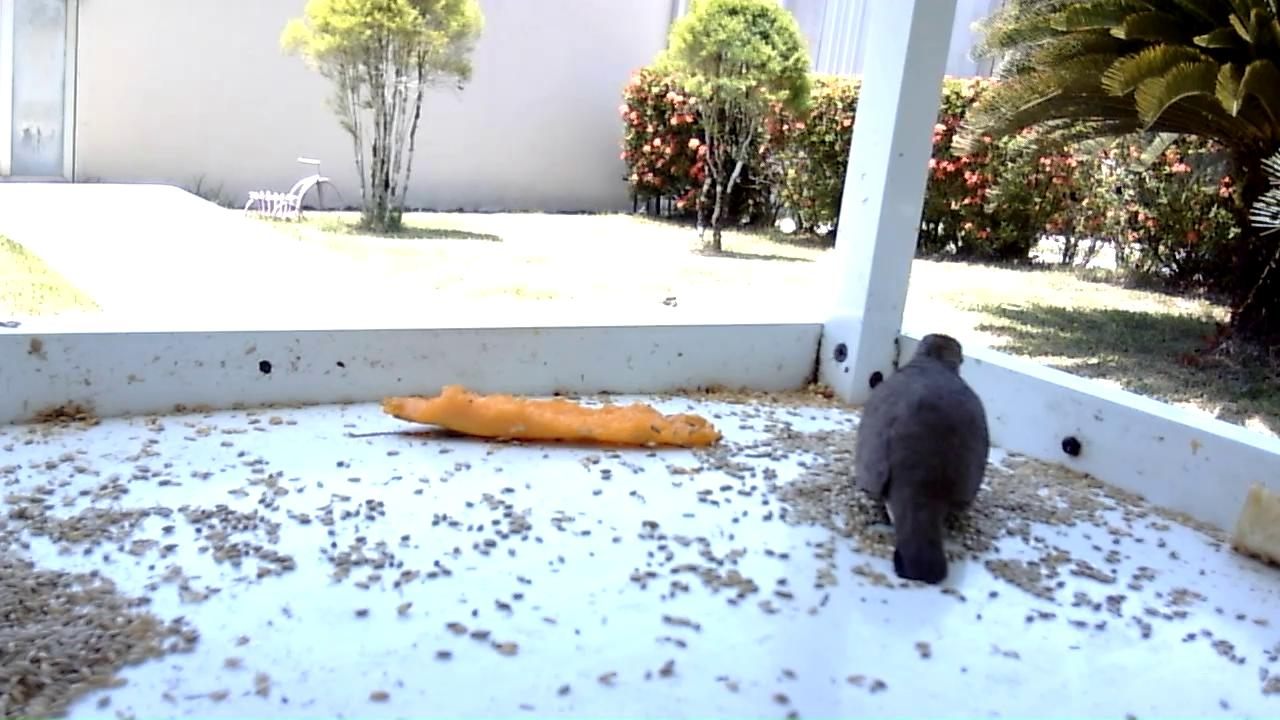rolinha: (850, 331, 994, 589)
